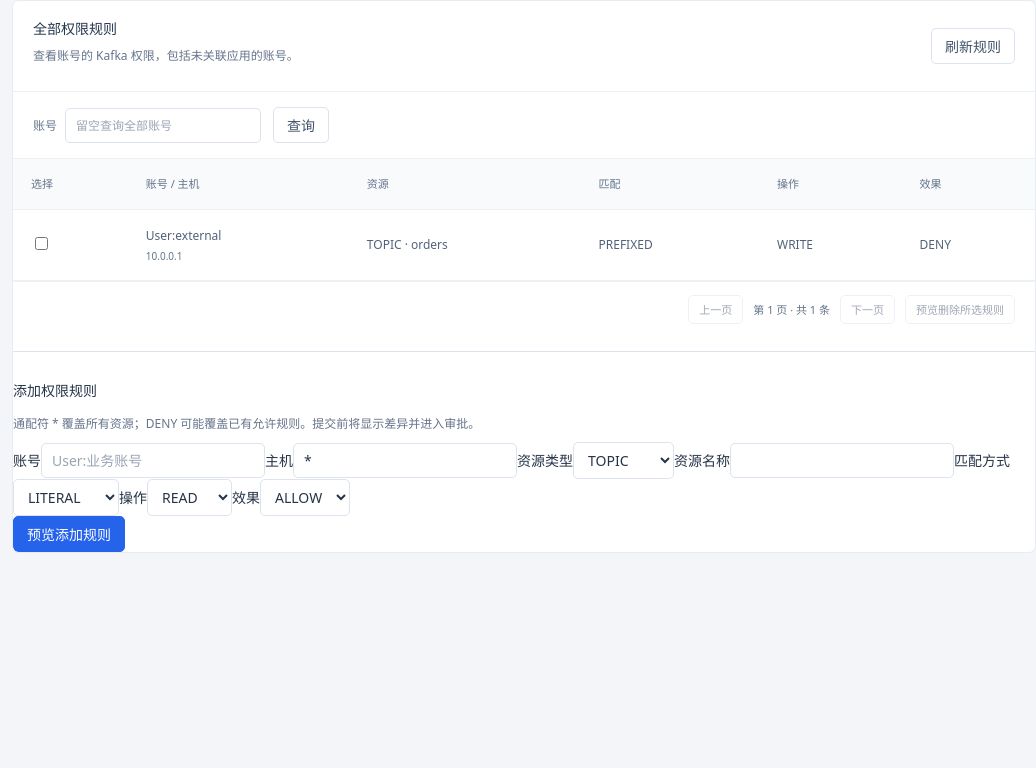
Test case: builds native DENY/host intent and constrains operations using the capability table
Type "User:external" into the field named "acl_principal". click: (153, 461)
box: [41, 443, 265, 478]
Replace the text in the field named "acl_host" with "10.0.0.1". click: (405, 461)
box: [293, 443, 517, 478]
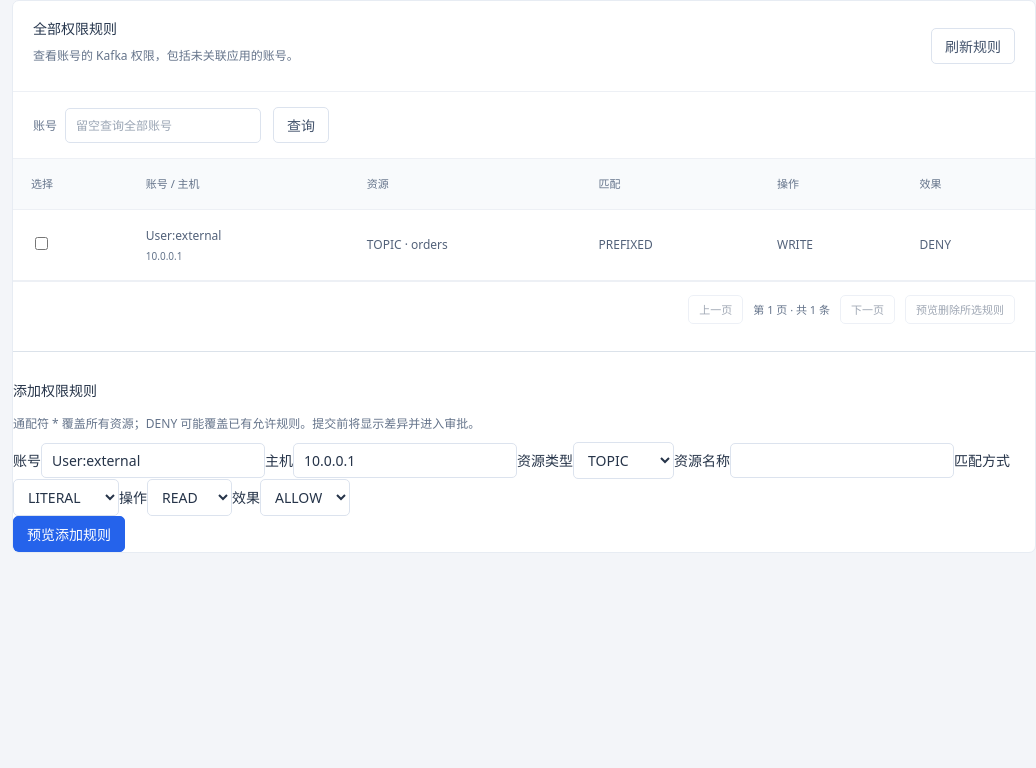
Type "orders" into the field named "acl_resource". click: (842, 461)
box: [730, 443, 954, 478]
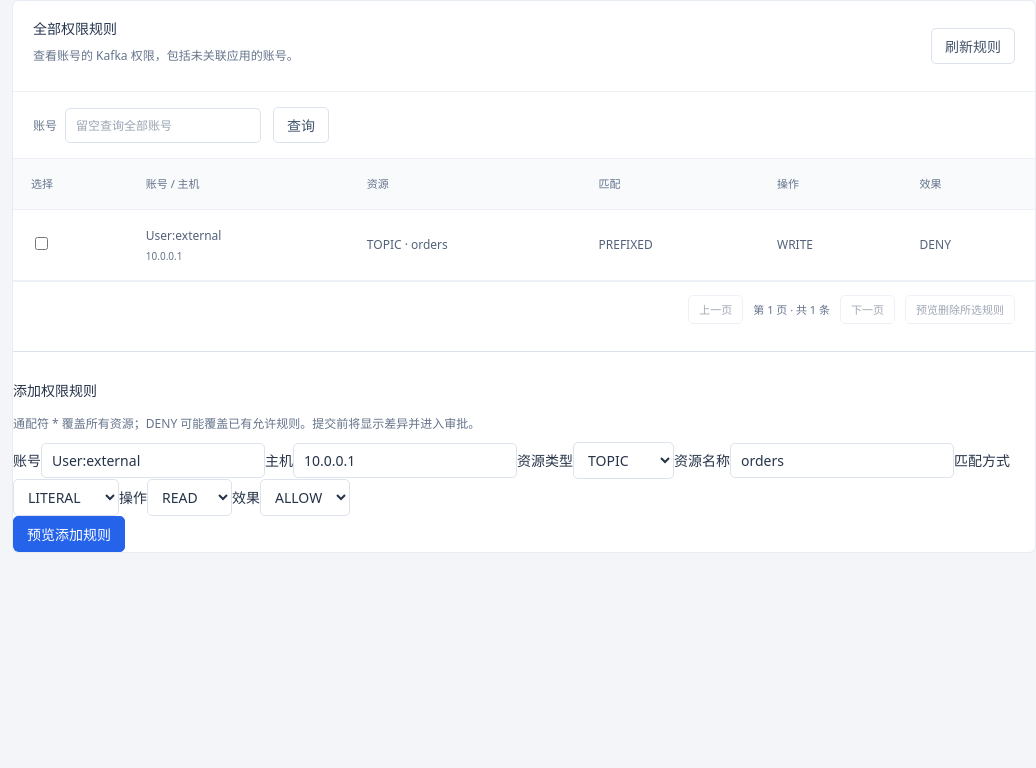
Select "PREFIXED" in the dropdown named "acl_pattern". click: (66, 498)
box: [13, 479, 119, 516]
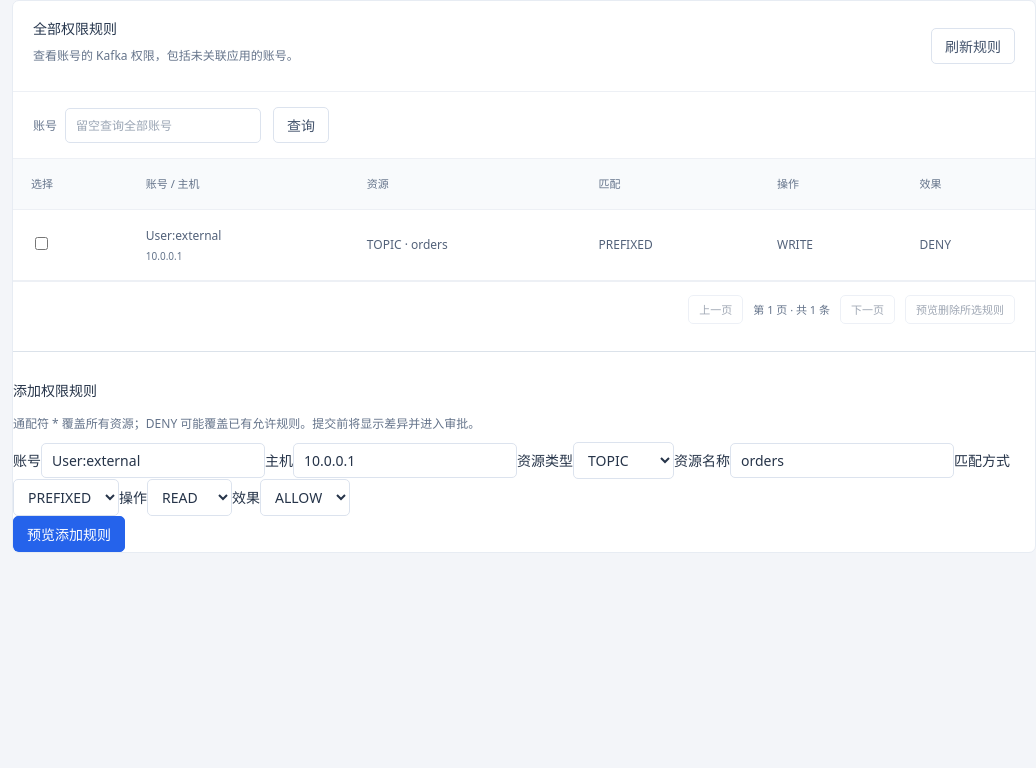
Select "WRITE" in the dropdown named "acl_operation". click: (190, 498)
box: [147, 479, 232, 516]
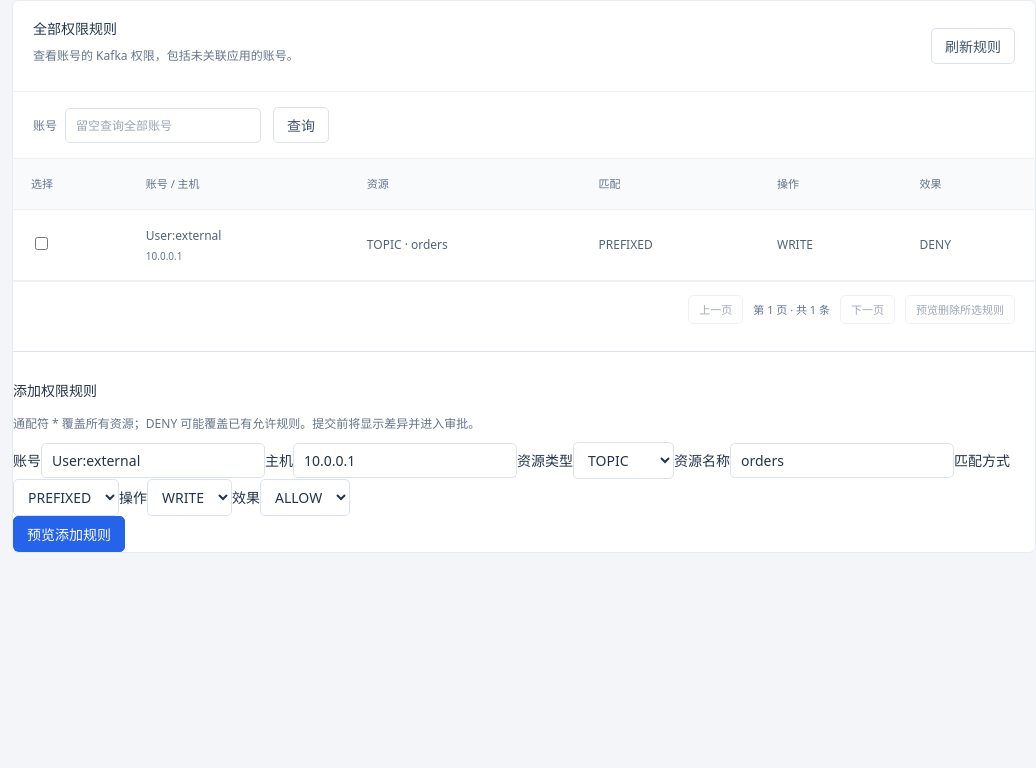
Select "DENY" in the dropdown named "acl_permission". click: (305, 498)
box: [260, 479, 350, 516]
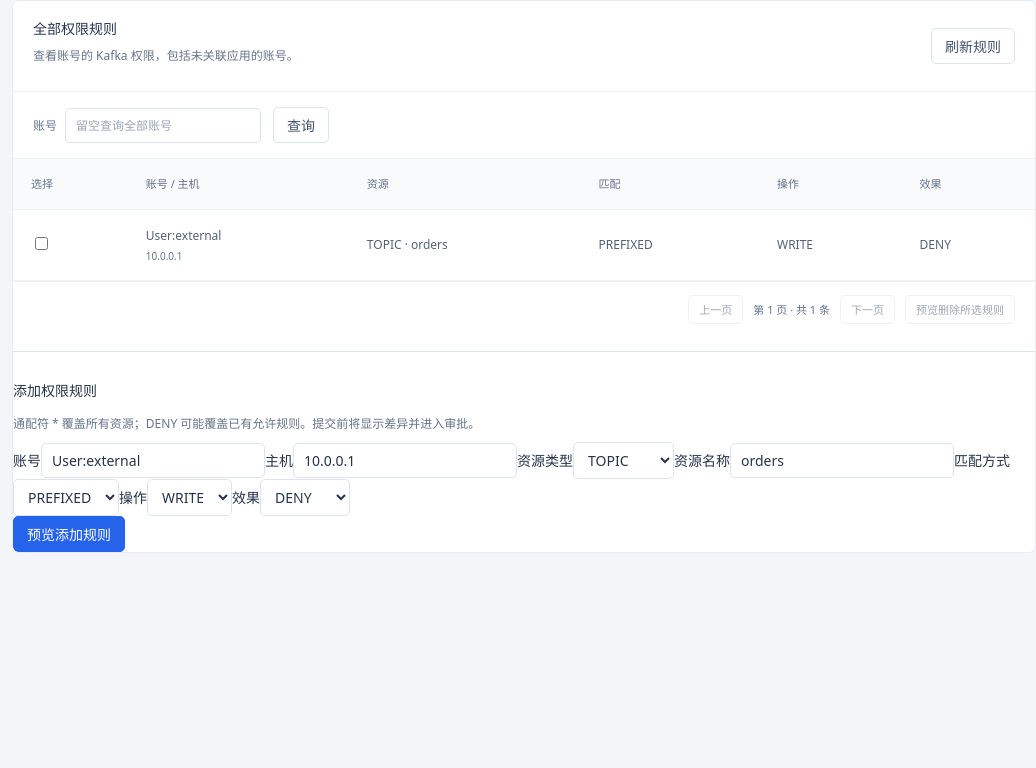
Submit the form that starts with "添加权限规则", box [13, 351, 1035, 552]
Select "CLUSTER" in the dropdown named "acl_type". click: (624, 461)
box: [573, 442, 674, 479]
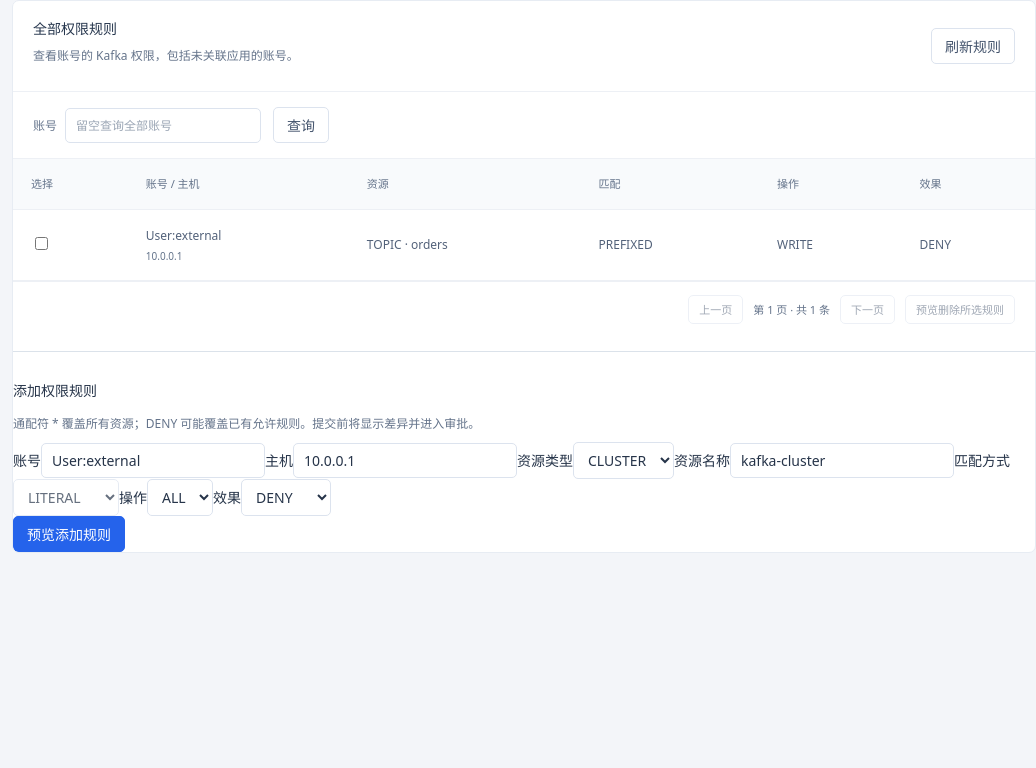
Expected: the field named "acl_resource" holds "kafka-cluster", [730, 443, 954, 478]
